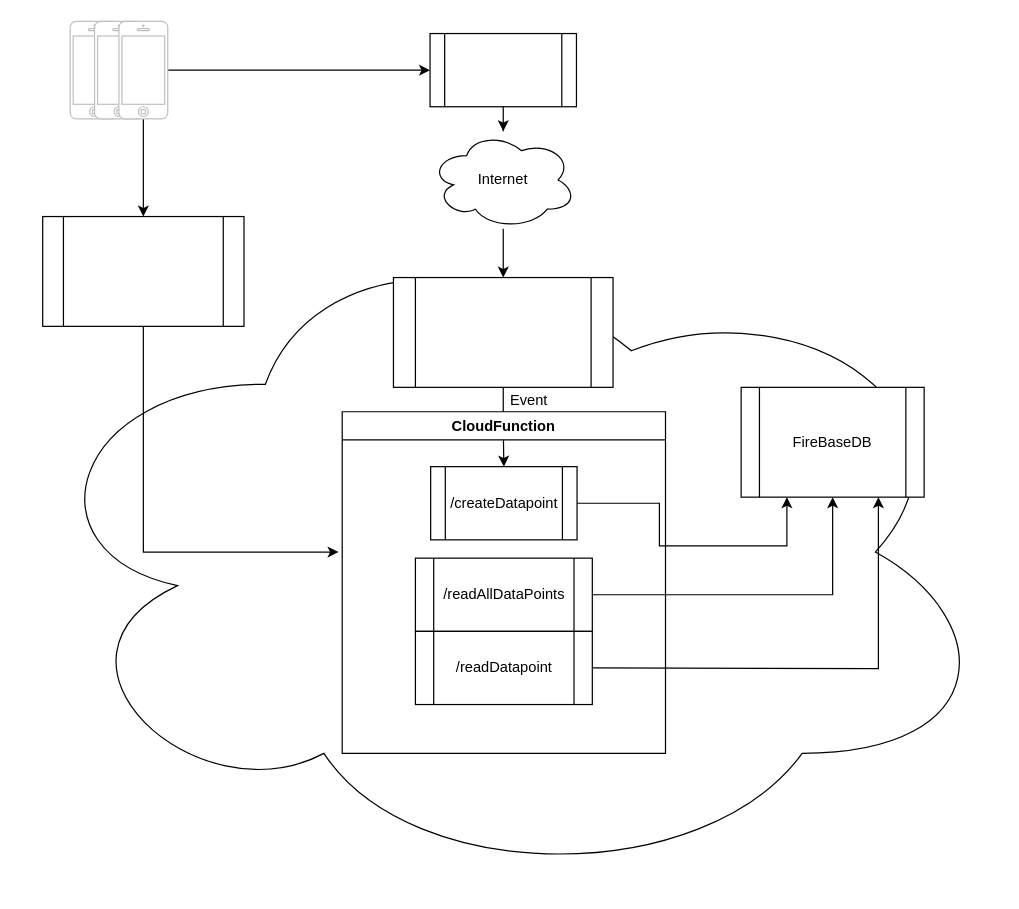
Some shapes in this 1019 by 909 pixel diagram are drawn without their labels. The shapes that lost their labels are listed below. From the top down, each one's centre as x and y in pixels, then its label:
At [502,69]: "Proxity".
At [142,270]: "Frontend".
At [502,331]: "Webhook /webhook".
